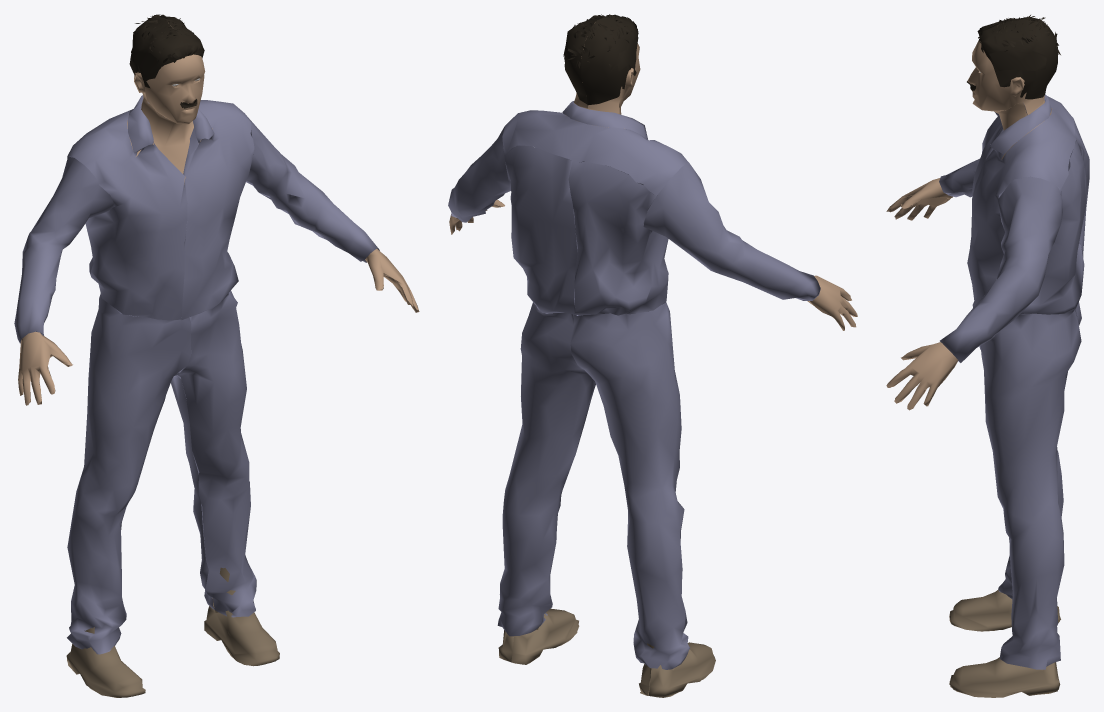
File: man_04.glb
3 renders of one model, left to right at view 1: azimuth 30°, elevation 25°; view 2: azimuth 150°, elevation 25°; view 3: azimuth 270°, elevation 25°, orthographic.
Parts seen in each view (by area): view 1: crowd; view 2: crowd; view 3: crowd.
Part boxes in pixels (bbox=[...]): crowd: bbox=[14, 14, 419, 697]; crowd: bbox=[448, 14, 857, 697]; crowd: bbox=[886, 15, 1089, 697].
Bounding box in the file's own units: 1.1 × 1.72 × 0.496.
